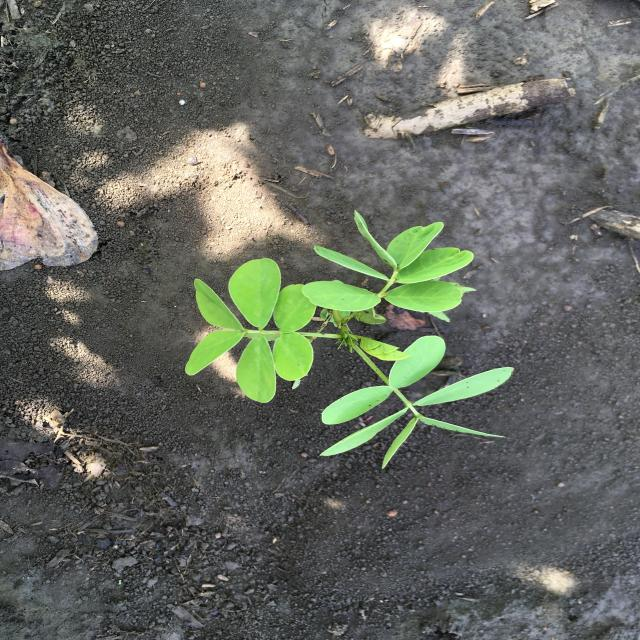Sicklepod: (183, 209, 520, 472)
